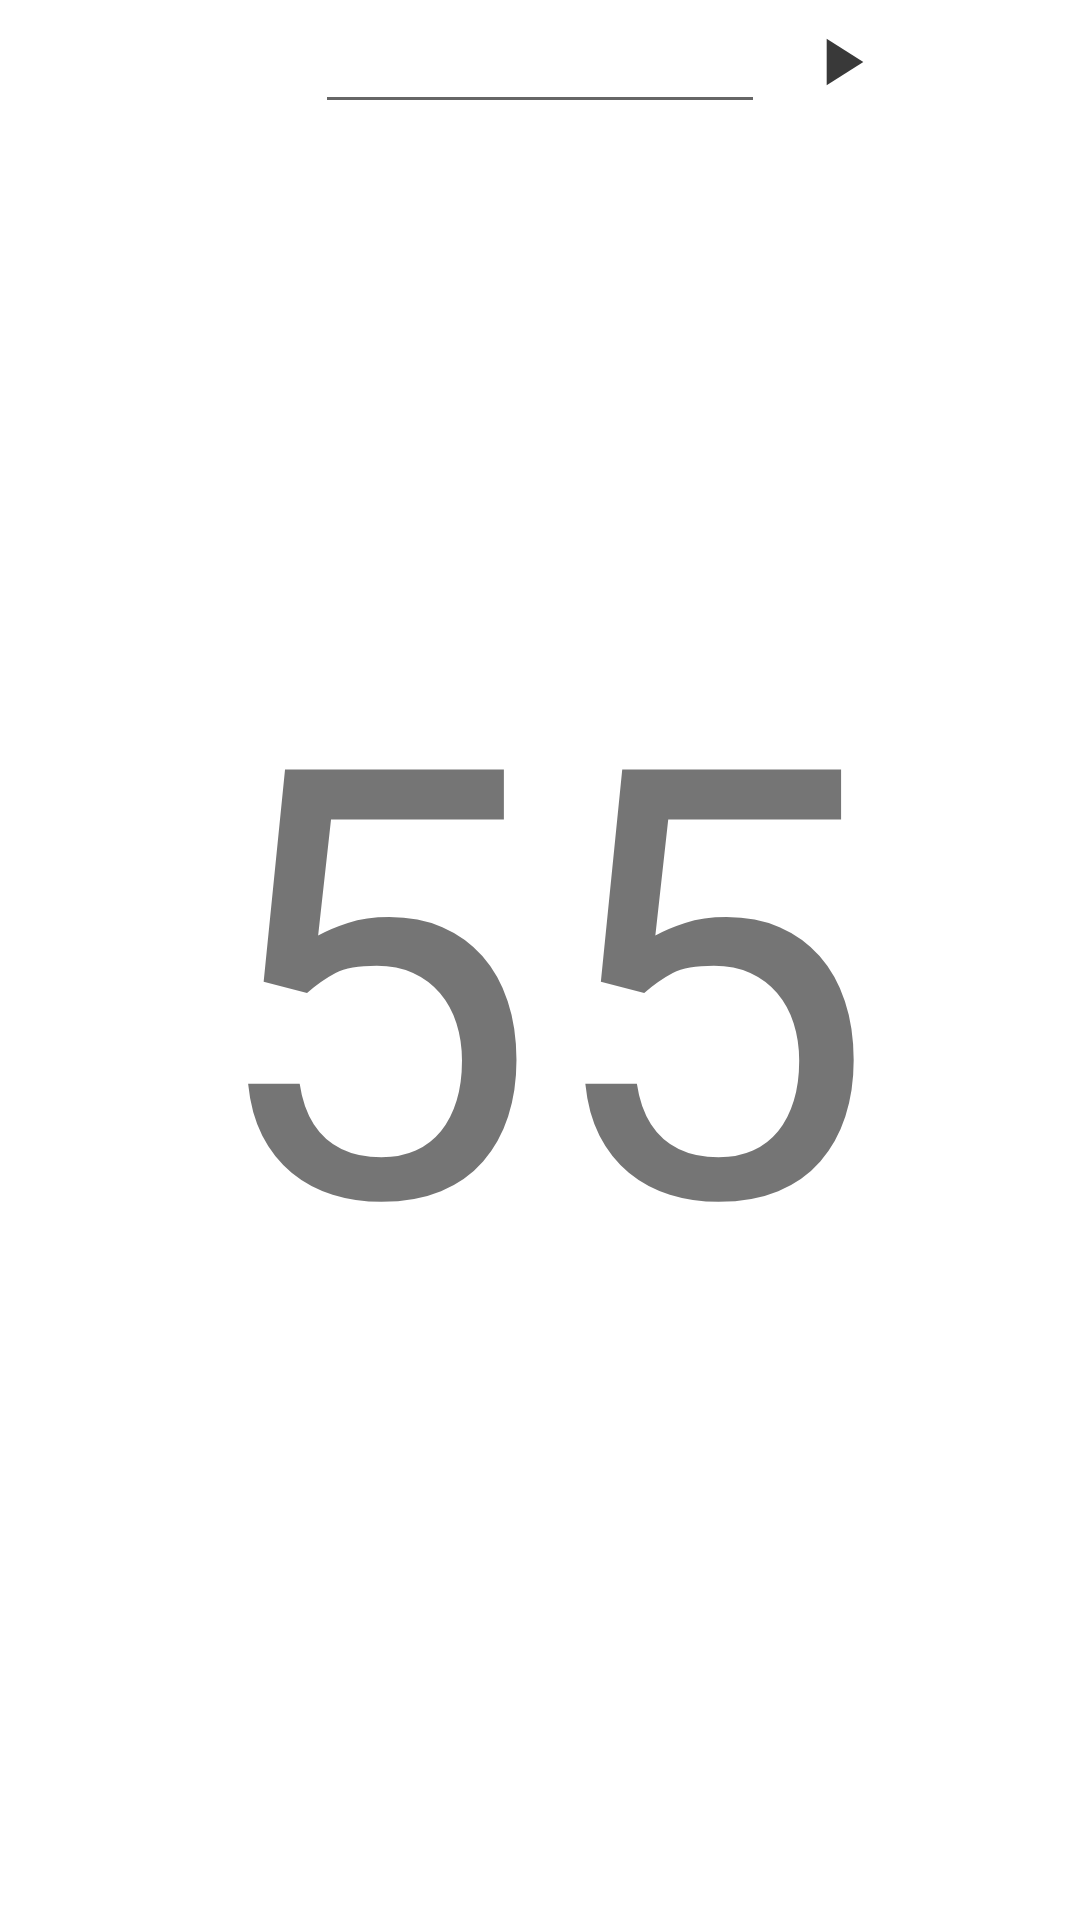

Where to tap for icons on this 1080*1920 app screen, as [x,y]:
arrow start: [844,62]
